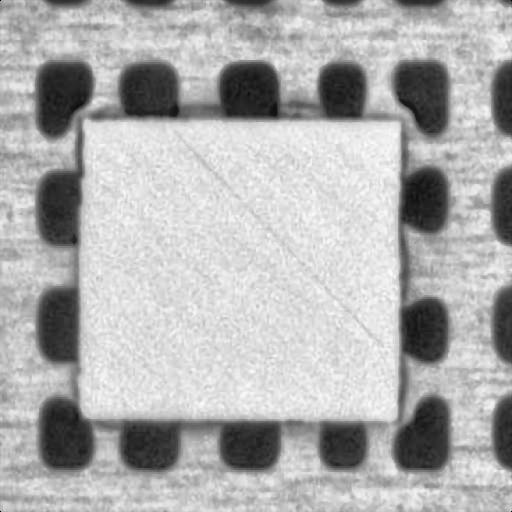DIE_CRACK: (226, 99, 499, 263)
